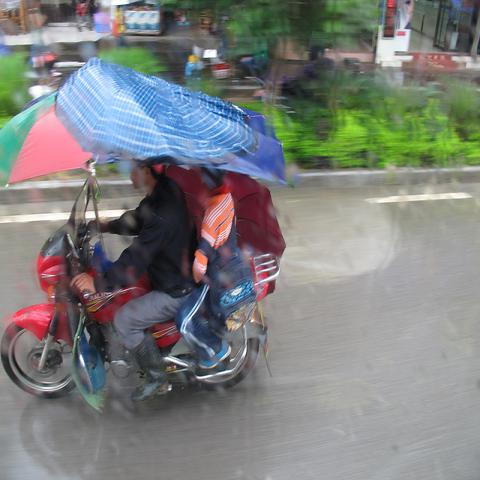motorcycle: (4, 179, 281, 392)
